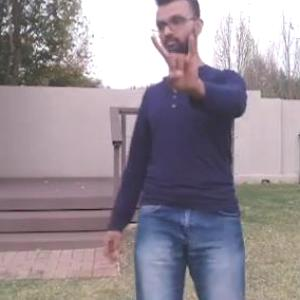takeoff-hand: (144, 29, 207, 98)
